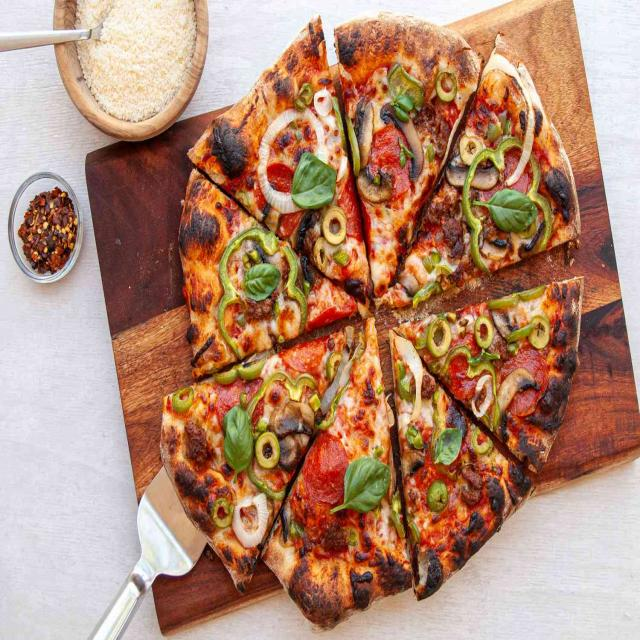pizza: (159, 13, 584, 632)
